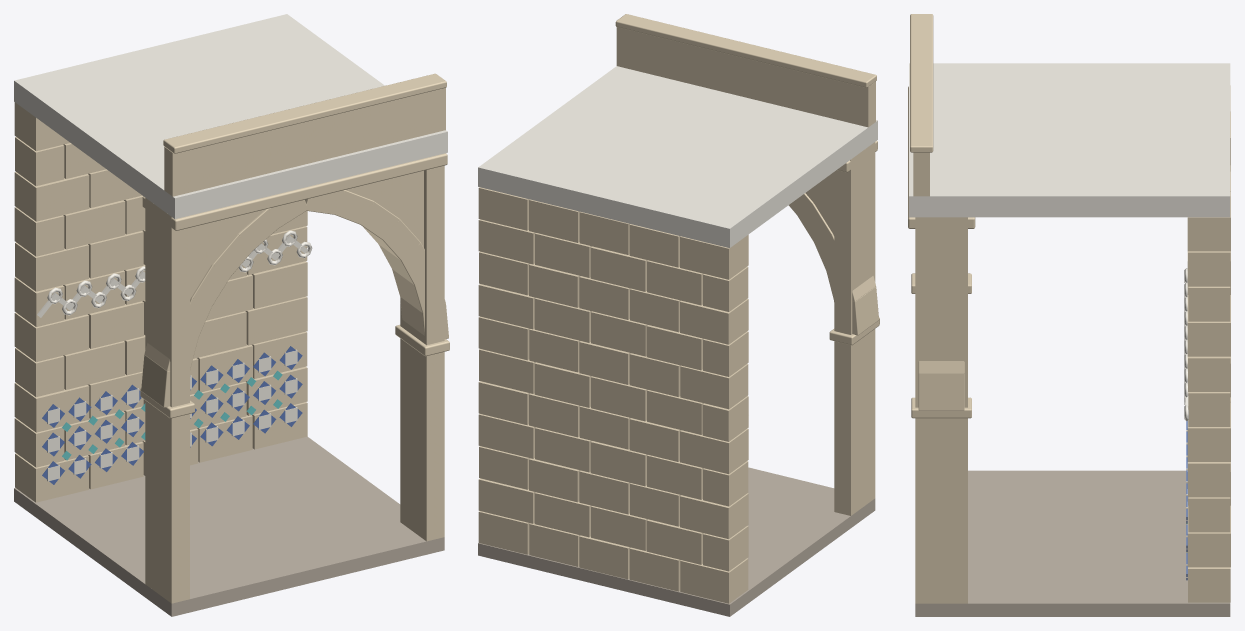
The model's file is courtyard-arcade-b-5ae70c52.glb.
3 views of the same model, side by side, from view 1: azimuth 30°, elevation 25°; view 2: azimuth 150°, elevation 25°; view 3: azimuth 270°, elevation 25° (orthographic). The views are drawn at different scales.
Parts seen in each view (by area): view 1: courtyard-arcade-bay; view 2: courtyard-arcade-bay; view 3: courtyard-arcade-bay.
Boxes of the visible parts, <box> form: courtyard-arcade-bay: <box>14,14,449,616</box>; courtyard-arcade-bay: <box>478,14,879,616</box>; courtyard-arcade-bay: <box>908,14,1230,616</box>.
Size of the model in its own units: 3.14 by 4.94 by 3.08.
